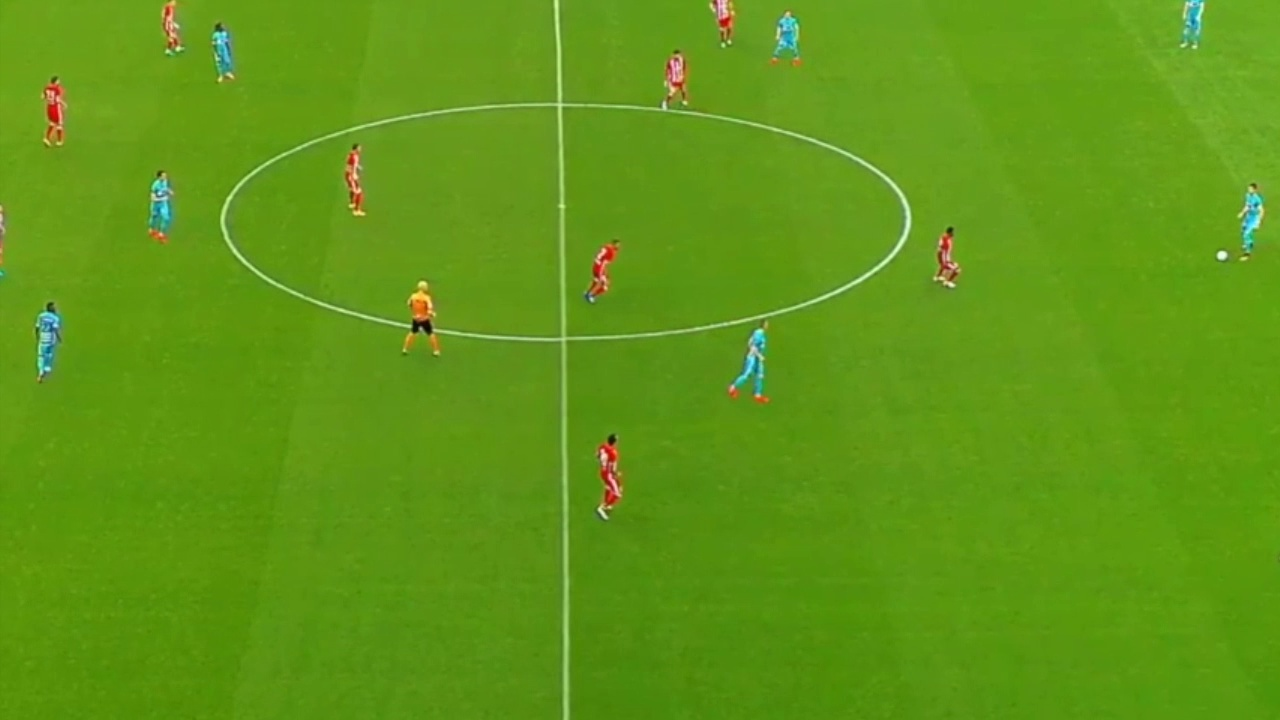ball: (1213, 247, 1230, 263)
person: (732, 318, 774, 402), (763, 9, 810, 69), (38, 75, 73, 150), (341, 137, 373, 216), (1234, 180, 1266, 258), (584, 238, 624, 300), (34, 302, 61, 386), (661, 48, 693, 116), (596, 434, 621, 519), (931, 223, 961, 291), (146, 170, 171, 247), (210, 22, 239, 81), (156, 1, 185, 54)
